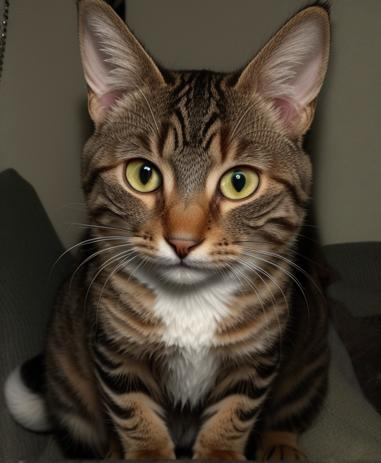cat: (11, 2, 331, 463)
